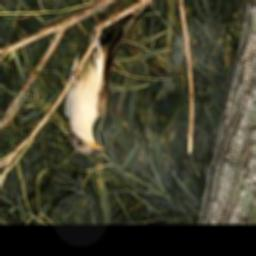Cuckoo: (61, 0, 151, 156)
